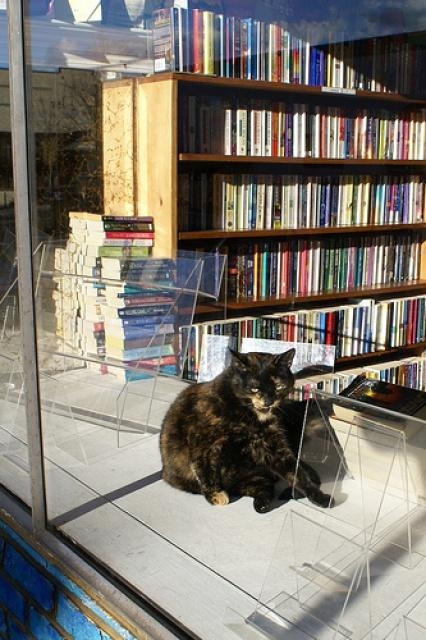Rak: (134, 70, 425, 382)
